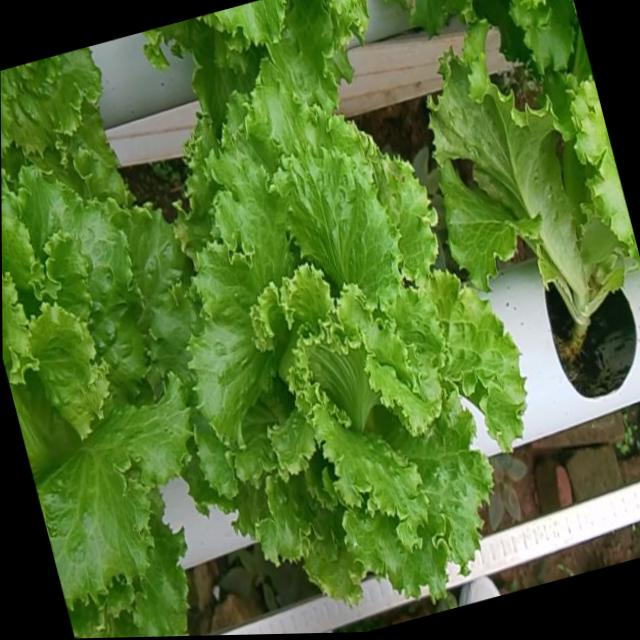Mature: (174, 79, 526, 597), (1, 167, 193, 612)
